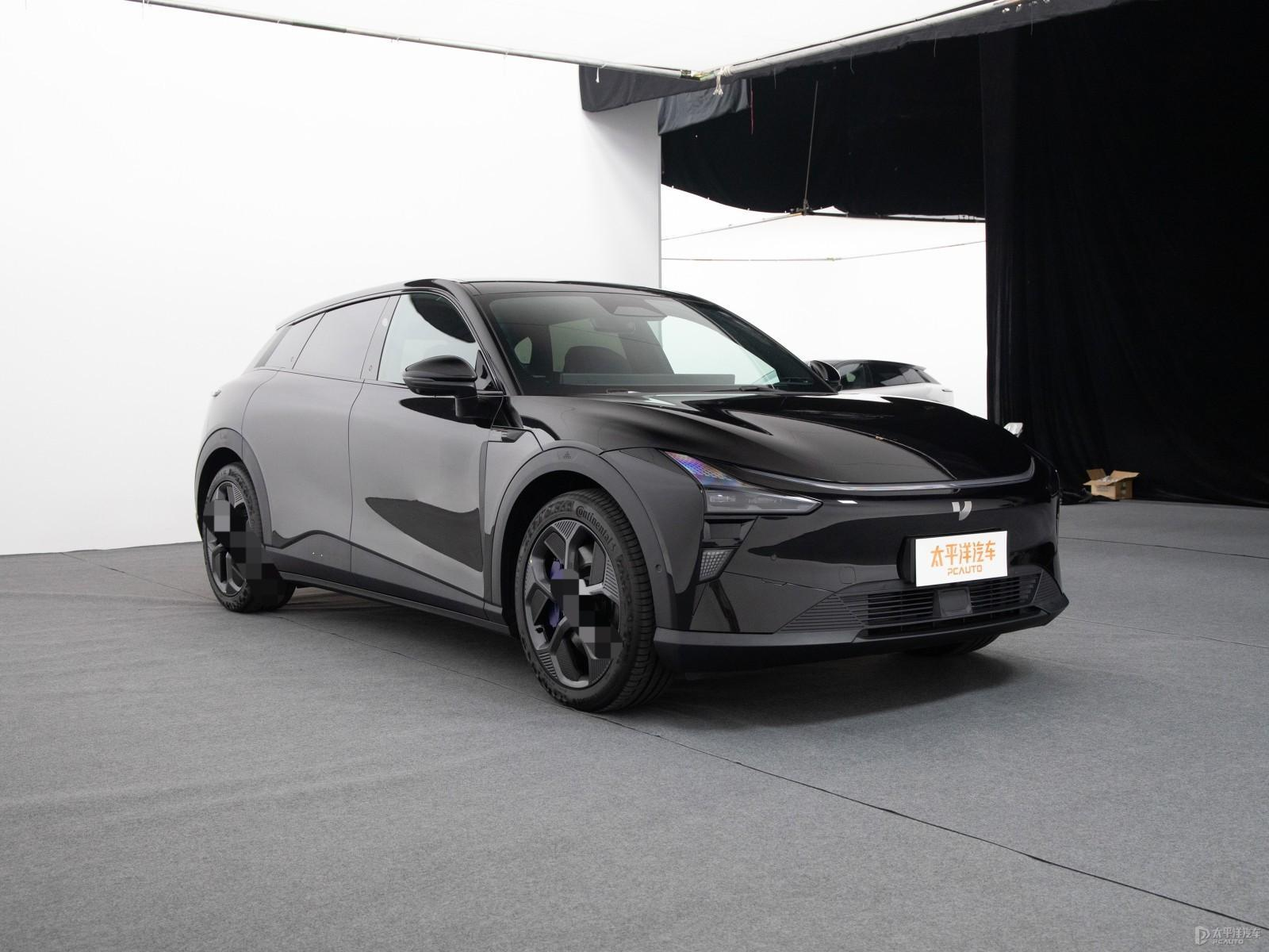JIYUE: (951, 501, 973, 521)
